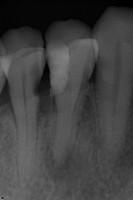Furcation Involvement: (45, 147, 82, 186)
